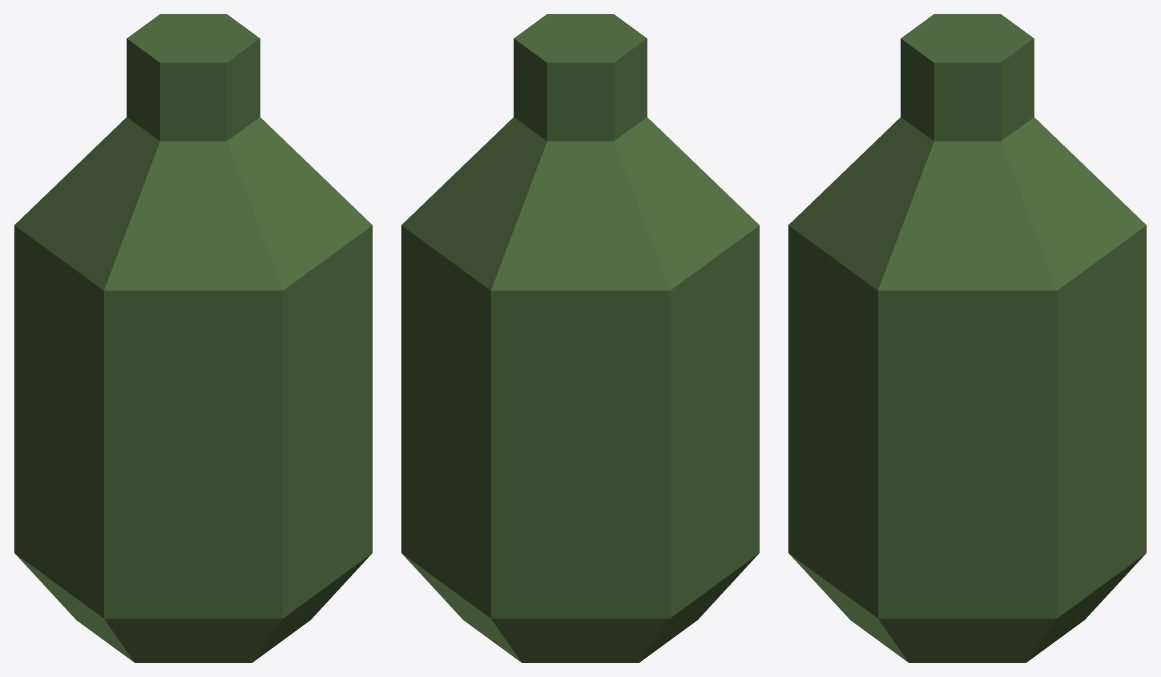
File: Bottle.fbx
3 renders of one model, left to right at view 1: azimuth 30°, elevation 25°; view 2: azimuth 150°, elevation 25°; view 3: azimuth 270°, elevation 25°, orthographic.
Parts seen in each view (by area): view 1: Bottle; view 2: Bottle; view 3: Bottle.
Part boxes in pixels (x1,y1,x2,y2): Bottle: (14, 14, 372, 662); Bottle: (401, 14, 759, 662); Bottle: (788, 14, 1146, 662).
Size of the model in its own units: 32.44 by 67.09 by 37.46.
